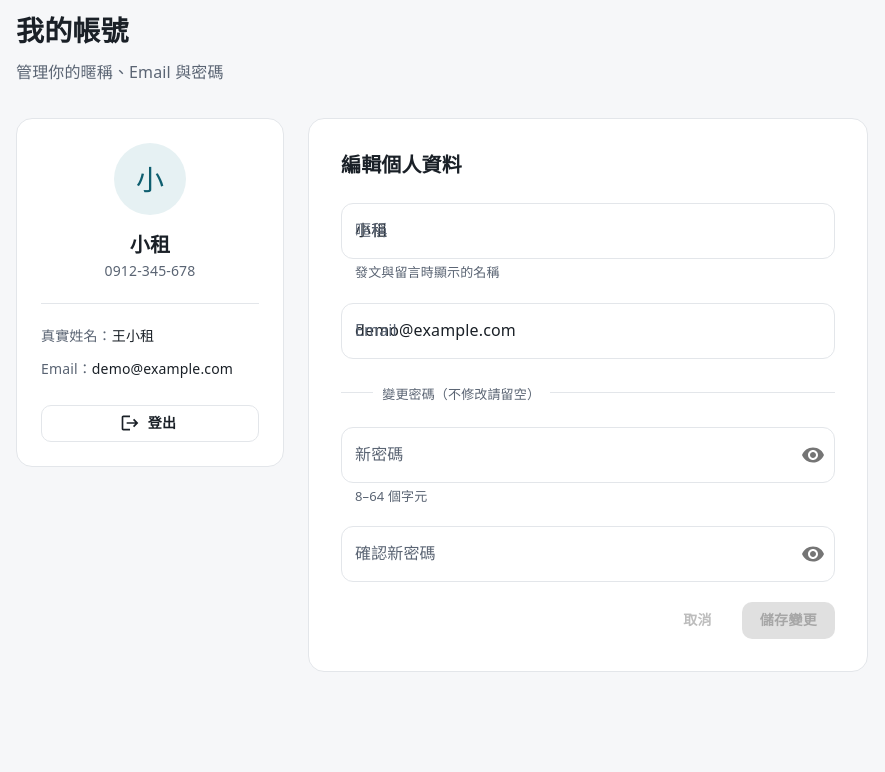
ProfilePage — change password › stores the re-issued token after a password change so the session survives token revocation
Expected: the field labelled "暱稱" holds "小租", [341,203,835,259]
Type "brand-new-pass-1" into the password field labelled "新密碼" at (563, 455), box [341,427,785,483]
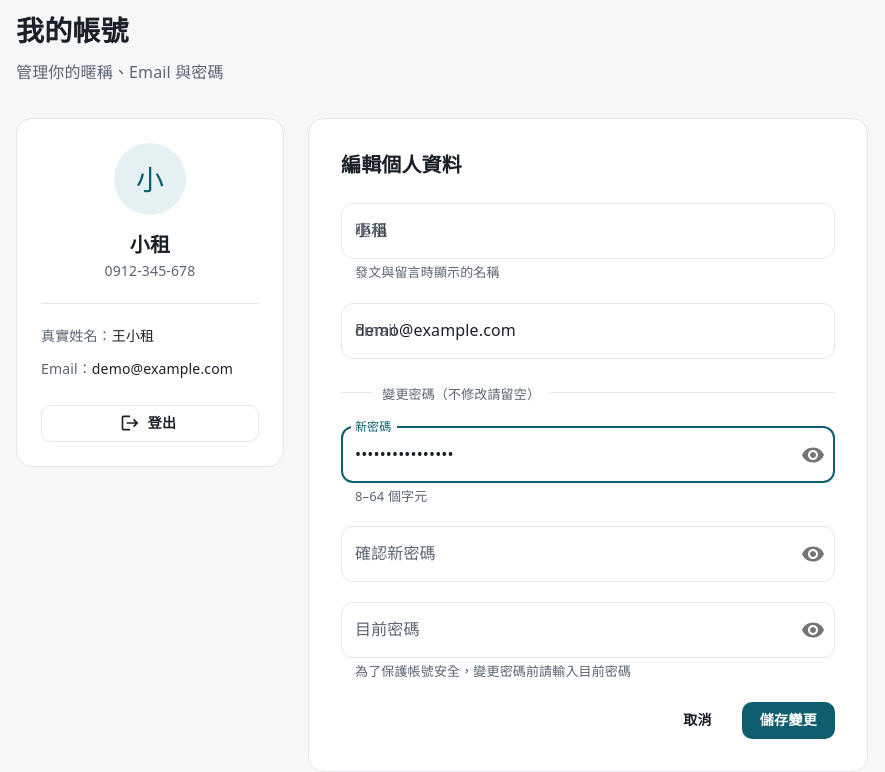
Type "brand-new-pass-1" into the password field labelled "確認新密碼" at (563, 554), box [341,526,785,582]
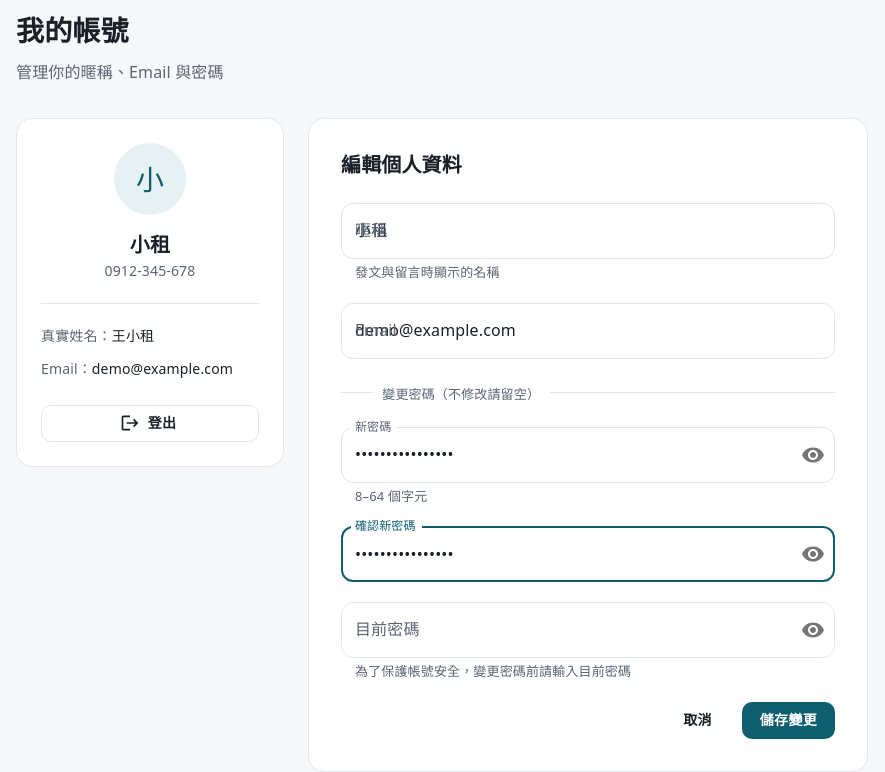
Type "password123" into the password field labelled "目前密碼" at (563, 630), box [341,602,785,658]
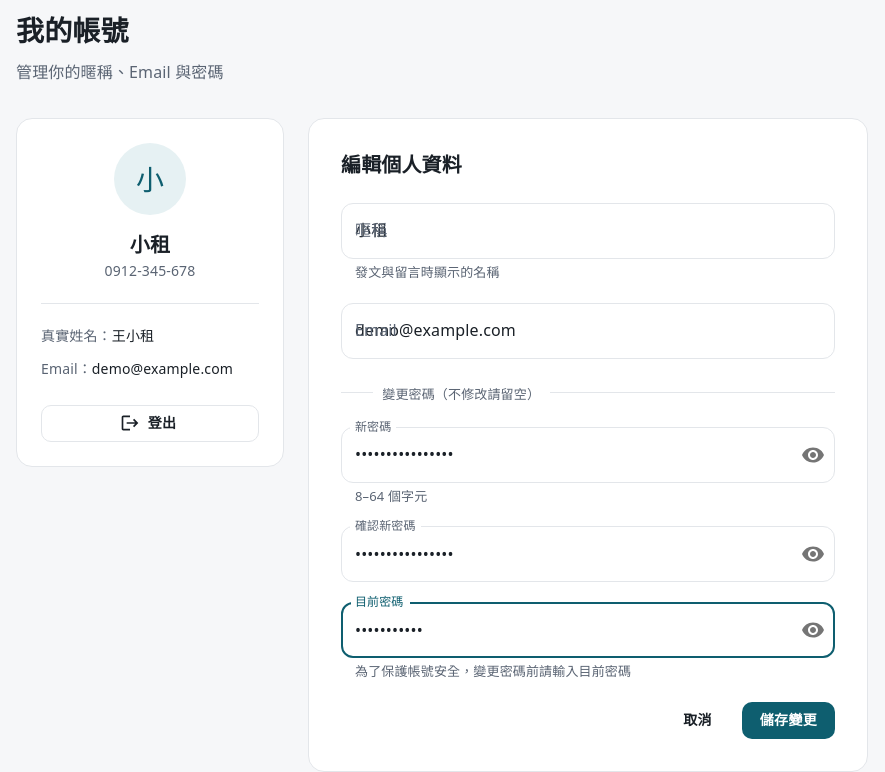
Click the button "儲存變更" at (788, 720), box [742,702,835,739]
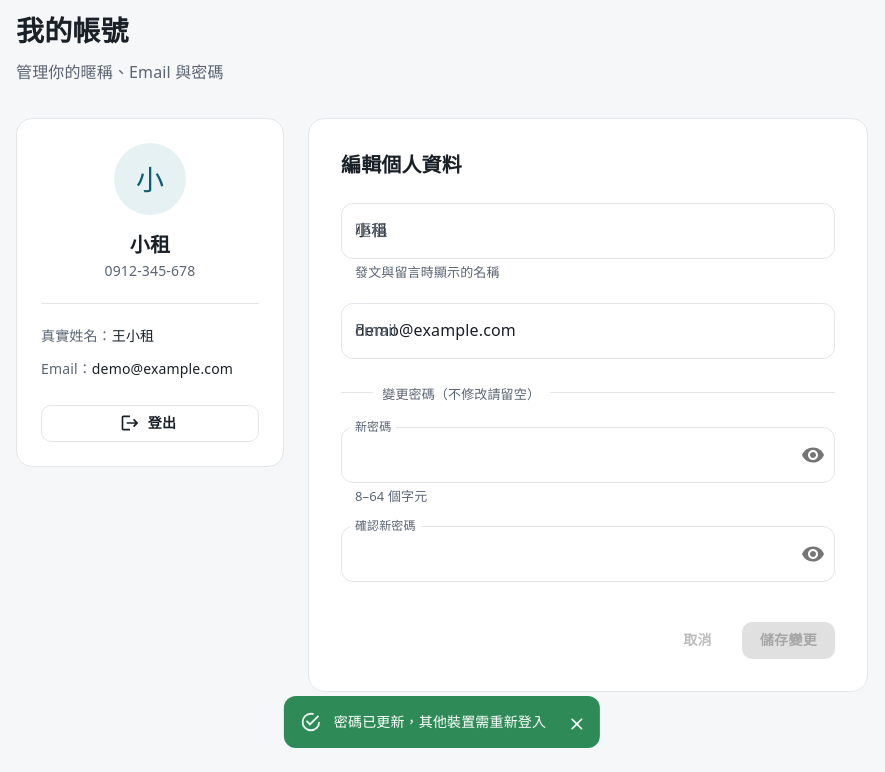
Now the text "密碼已更新，其他裝置需重新登入" is shown, box [334,712,546,731]
Now the password field labelled "新密碼" is empty, box [341,427,785,483]
